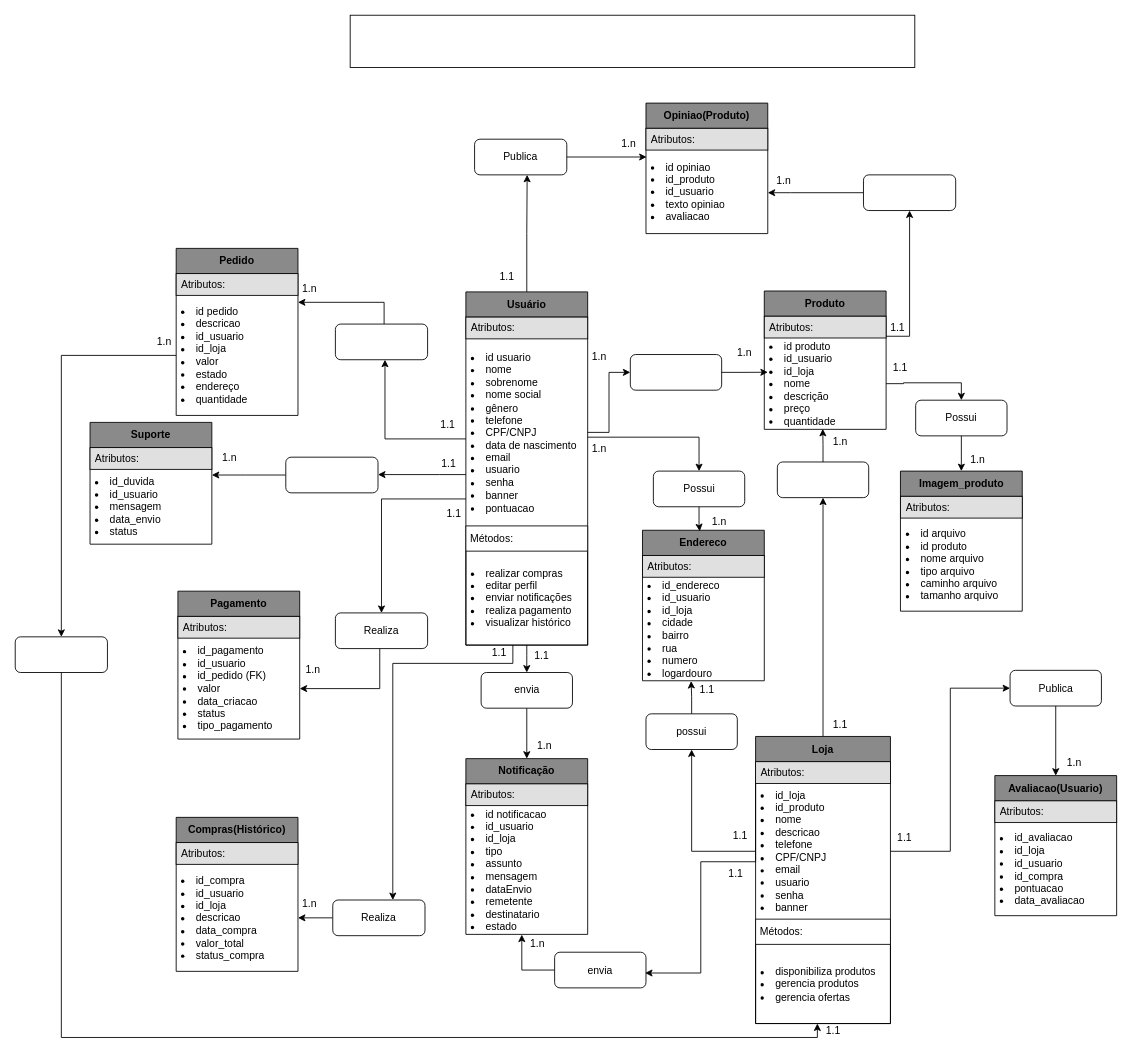
The diagram is 1132 pixels wide and 1060 high, and some of its shapes have lost their labels. Here are the shapes that lost their labels. From the top down, the centre of each, then its label:
point (632, 40): Nao quero mais trabalhar
point (909, 192): Recebe
point (381, 341): Cria
point (675, 372): Compra
point (331, 474): Chama
point (822, 479): Vende
point (60, 654): Feito
